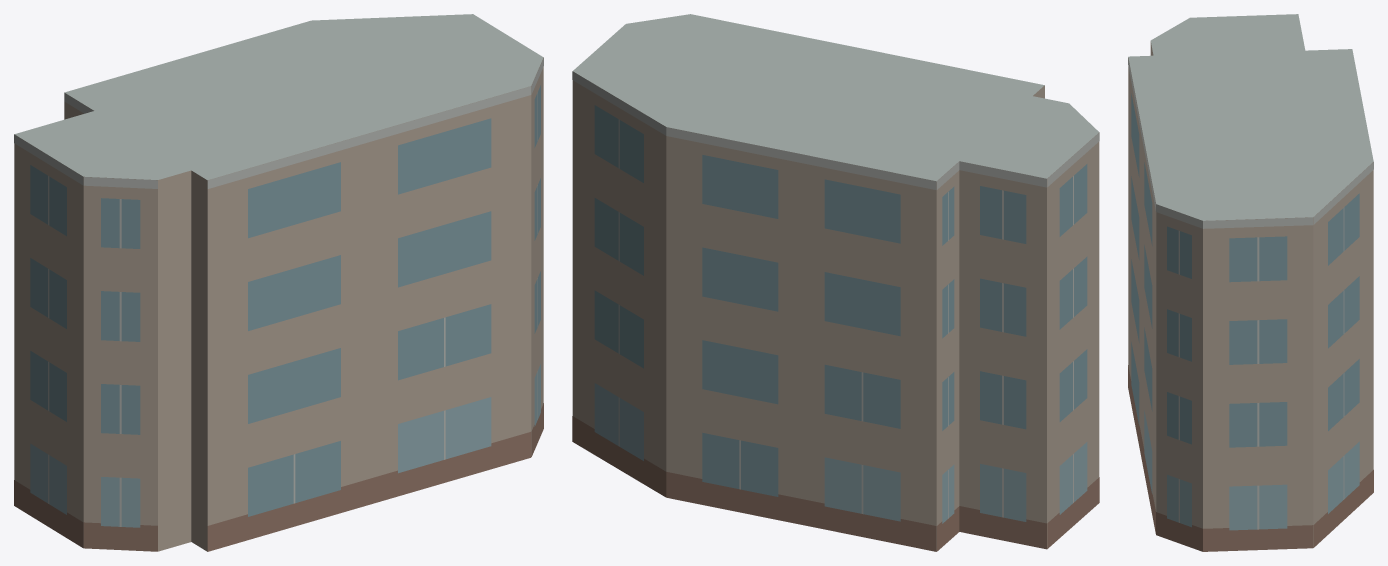
File: survey-upis-32621265.glb
3 renders of one model, left to right at view 1: azimuth 30°, elevation 25°; view 2: azimuth 150°, elevation 25°; view 3: azimuth 270°, elevation 25°, orthographic. The views are drawn at different scales.
Visible parts, largest first — view 1: survey-upis-32621265.tmp; view 2: survey-upis-32621265.tmp; view 3: survey-upis-32621265.tmp.
Boxes of the visible parts, bbox=[...] form: survey-upis-32621265.tmp: bbox=[14, 14, 543, 551]; survey-upis-32621265.tmp: bbox=[572, 14, 1099, 551]; survey-upis-32621265.tmp: bbox=[1128, 14, 1373, 551].
Bounding box in the file's own units: 13.55 × 10.1 × 6.8.
